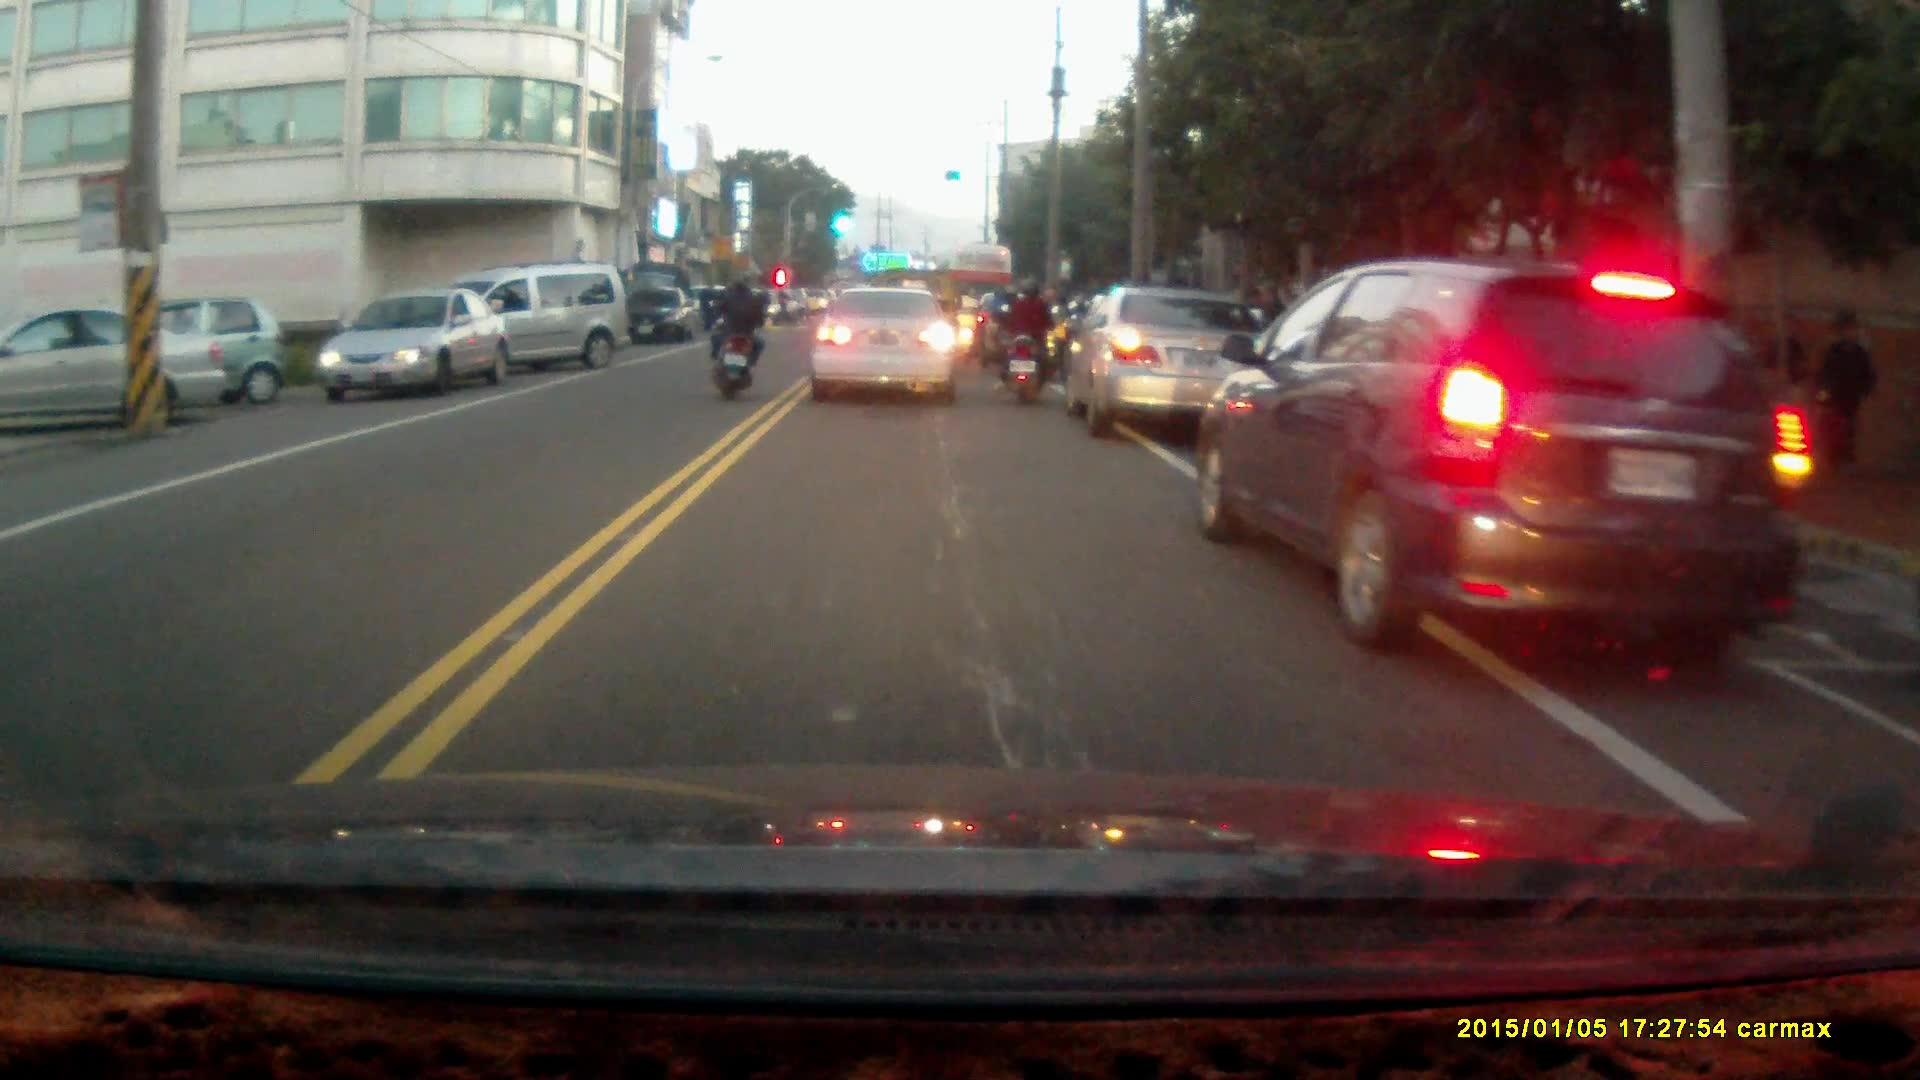pedestrian: (1818, 309, 1871, 472), (1759, 308, 1805, 446)
rider: (994, 270, 1060, 405), (705, 273, 766, 397)
vehicle: (1196, 253, 1831, 656), (1061, 281, 1276, 431), (1, 307, 237, 433), (409, 261, 629, 384), (58, 296, 285, 411), (315, 289, 511, 401), (806, 285, 964, 402), (621, 286, 690, 347)
